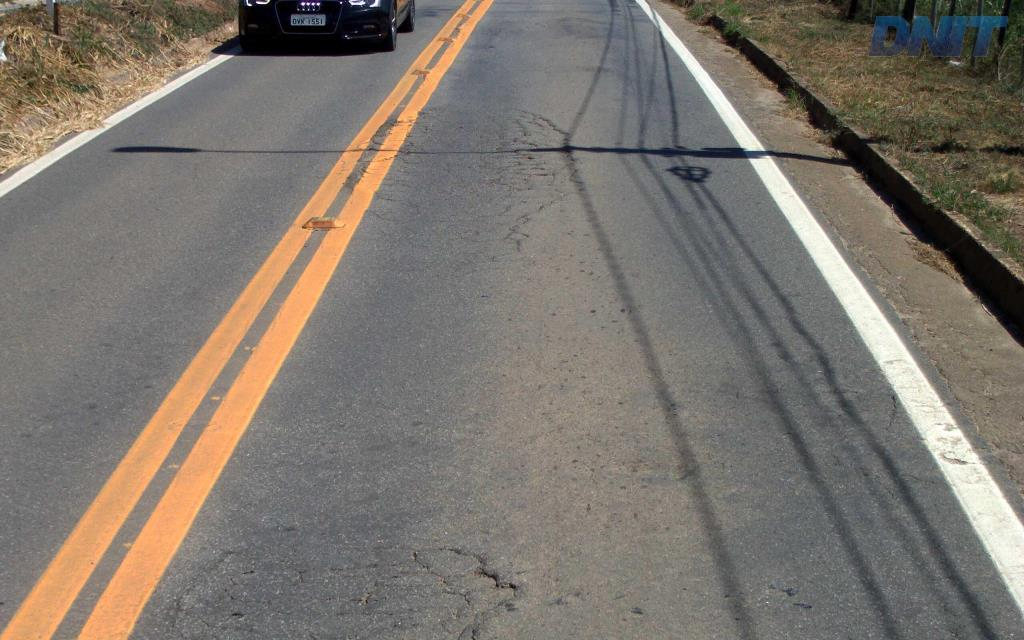crack: (473, 553, 519, 597)
